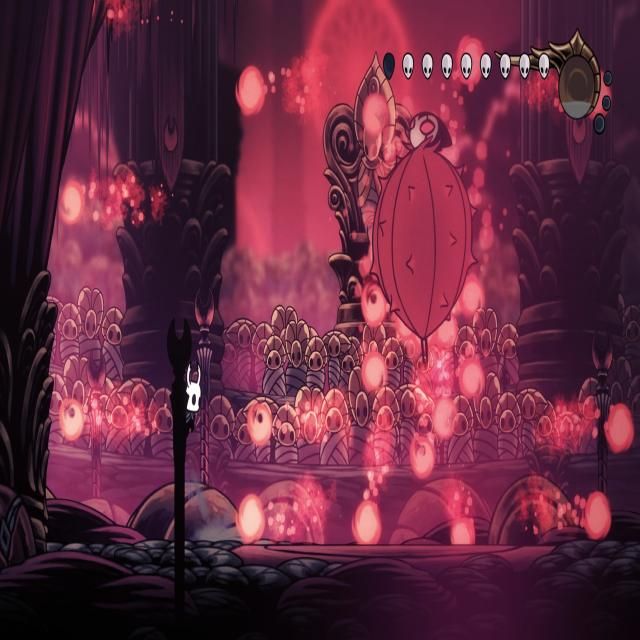Player: (180, 359, 203, 439)
Pufferfish: (365, 108, 480, 363)
Tiny Fireballs: (604, 404, 633, 452), (236, 68, 264, 117), (584, 494, 612, 542), (236, 496, 264, 543), (352, 502, 380, 546), (362, 94, 388, 140), (360, 284, 387, 327), (248, 402, 274, 446), (409, 435, 435, 479), (457, 357, 483, 400), (58, 180, 82, 226), (60, 398, 84, 442), (360, 351, 385, 393), (431, 399, 455, 441), (458, 279, 481, 319), (450, 512, 476, 546)
